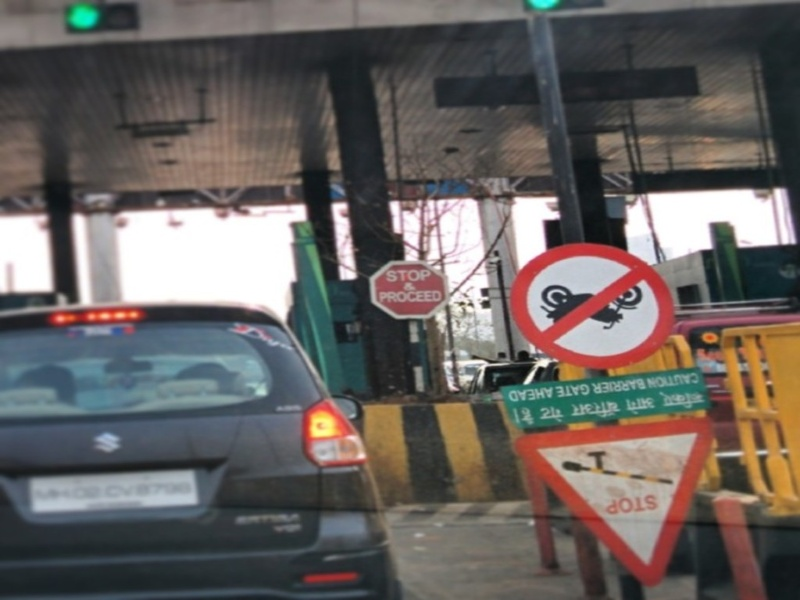green_light: (46, 2, 142, 51)
stop: (366, 258, 452, 322)
